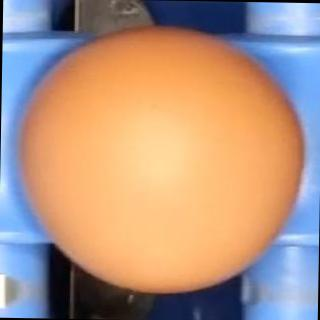Telur: (15, 22, 313, 299)
